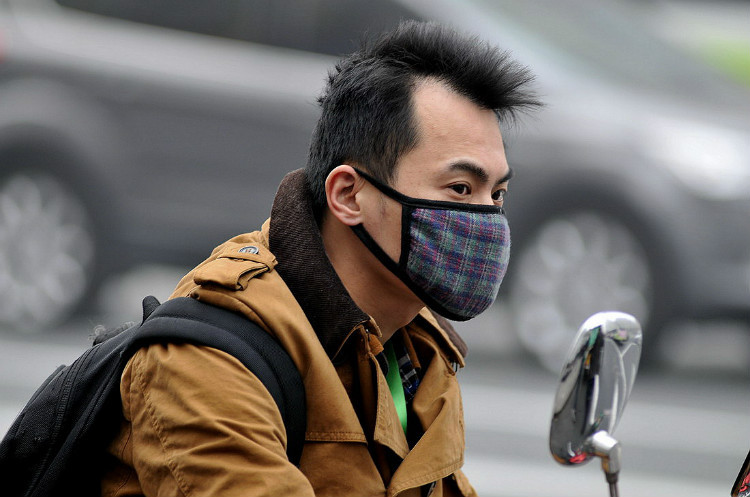face_mask: (384, 104, 512, 317)
